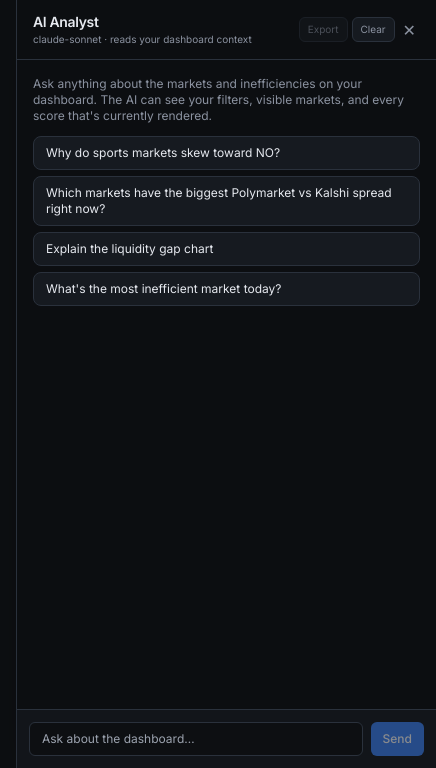
Test: ChatPanel › submits message and appends stream chunks
In the field with placeholder "Ask about the dashboard…": (196, 739) [29,722,363,756], type "Hi"
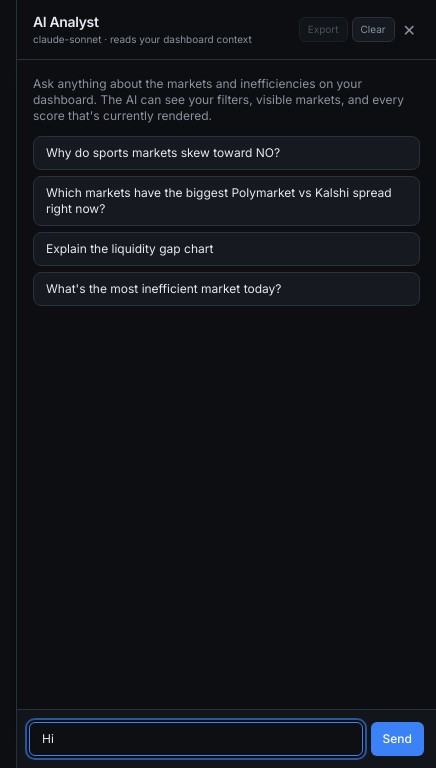
Click the button "Send": click(397, 739) [371,722,424,756]
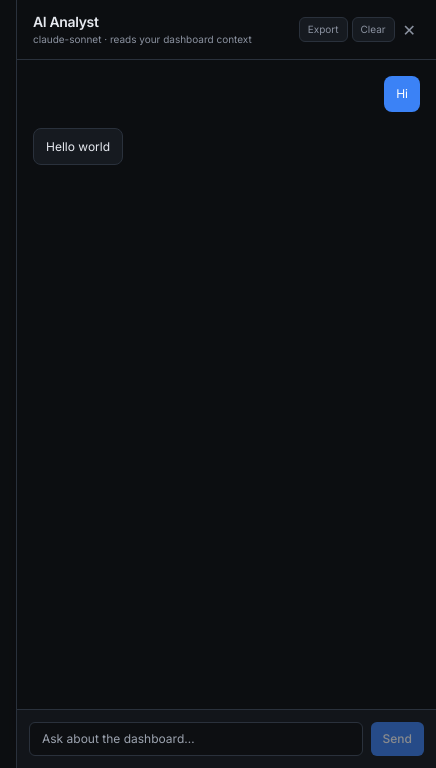
Expected: the text "Hello world" is shown, [46,138,110,154]
